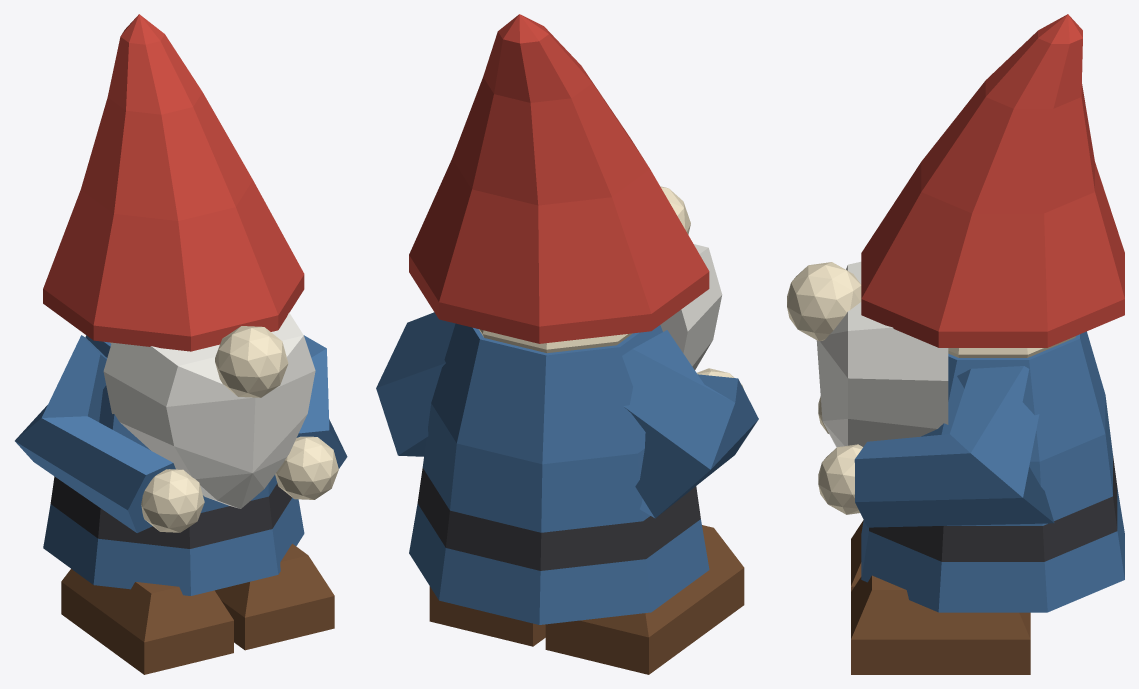
File: FMS_Garden_Gnome.fbx
3 renders of one model, left to right at view 1: azimuth 30°, elevation 25°; view 2: azimuth 150°, elevation 25°; view 3: azimuth 270°, elevation 25°, orthographic. The views are drawn at different scales.
Visible parts, largest first — view 1: FMS_Garden_Gnome_Body; view 2: FMS_Garden_Gnome_Body; view 3: FMS_Garden_Gnome_Body.
Part boxes in pixels (left/top/right/bottom): FMS_Garden_Gnome_Body: left=15, top=14, right=347, bottom=674; FMS_Garden_Gnome_Body: left=376, top=14, right=758, bottom=674; FMS_Garden_Gnome_Body: left=787, top=14, right=1124, bottom=674.
Size of the model in its own units: 0.2429 by 0.45 by 0.2257.
